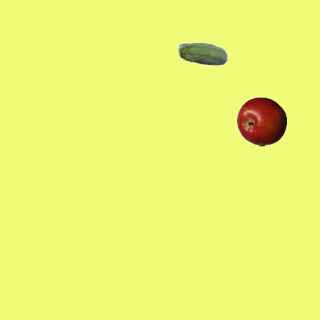Apple Braeburn: (236, 96, 286, 146)
Corn Husk: (177, 30, 227, 80)
